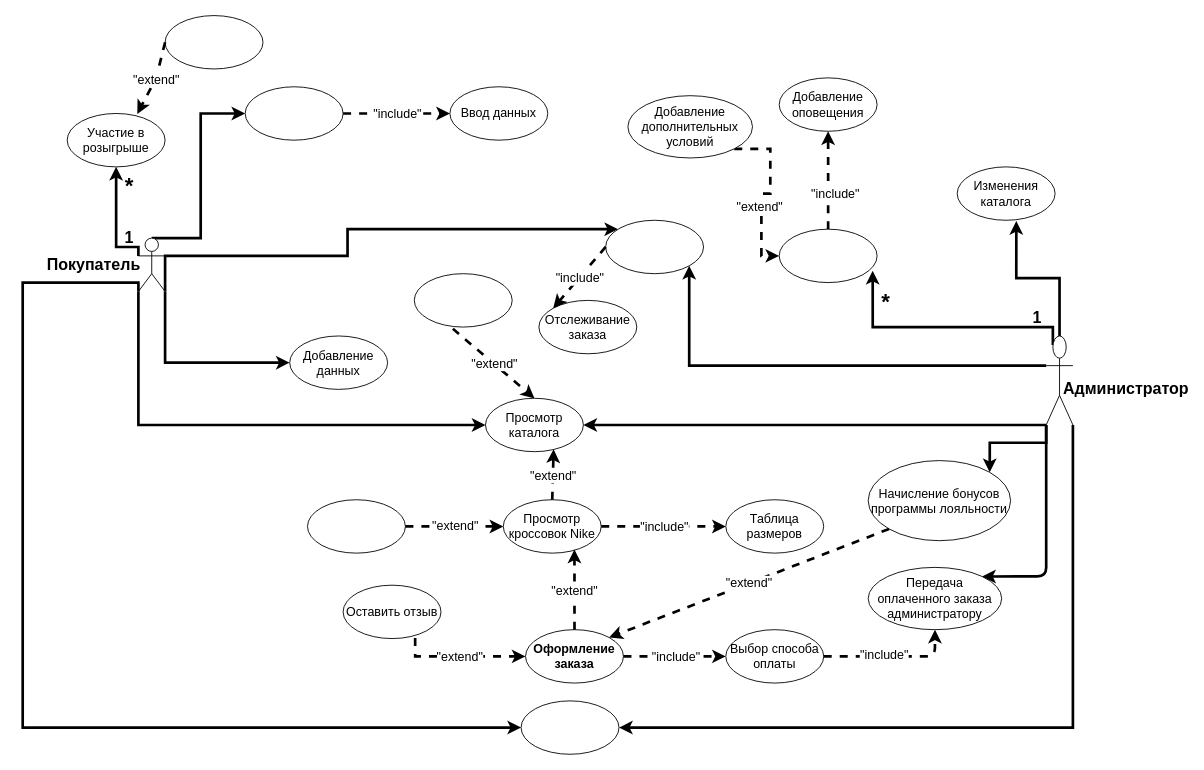
Image size: 1204x770. Some labels were removed from this diagram. Here are the shapes that lost their labels. From the top down, the centre of each, then its label:
At (x=213, y=42): "Предоплата".
At (x=293, y=113): "Регистрация/авторизация".
At (x=654, y=246): "Просмотр заказов".
At (x=827, y=255): "Запуск нового розыгрыша".
At (x=462, y=300): "Добавить бренд в избранное".
At (x=356, y=526): "Отзывы".
At (x=569, y=727): "Чат".
